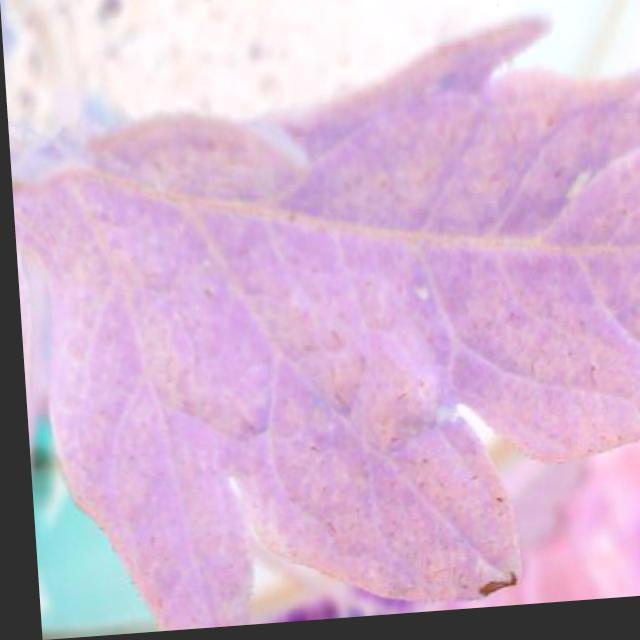Tomato mold leaf: (12, 0, 639, 639)
